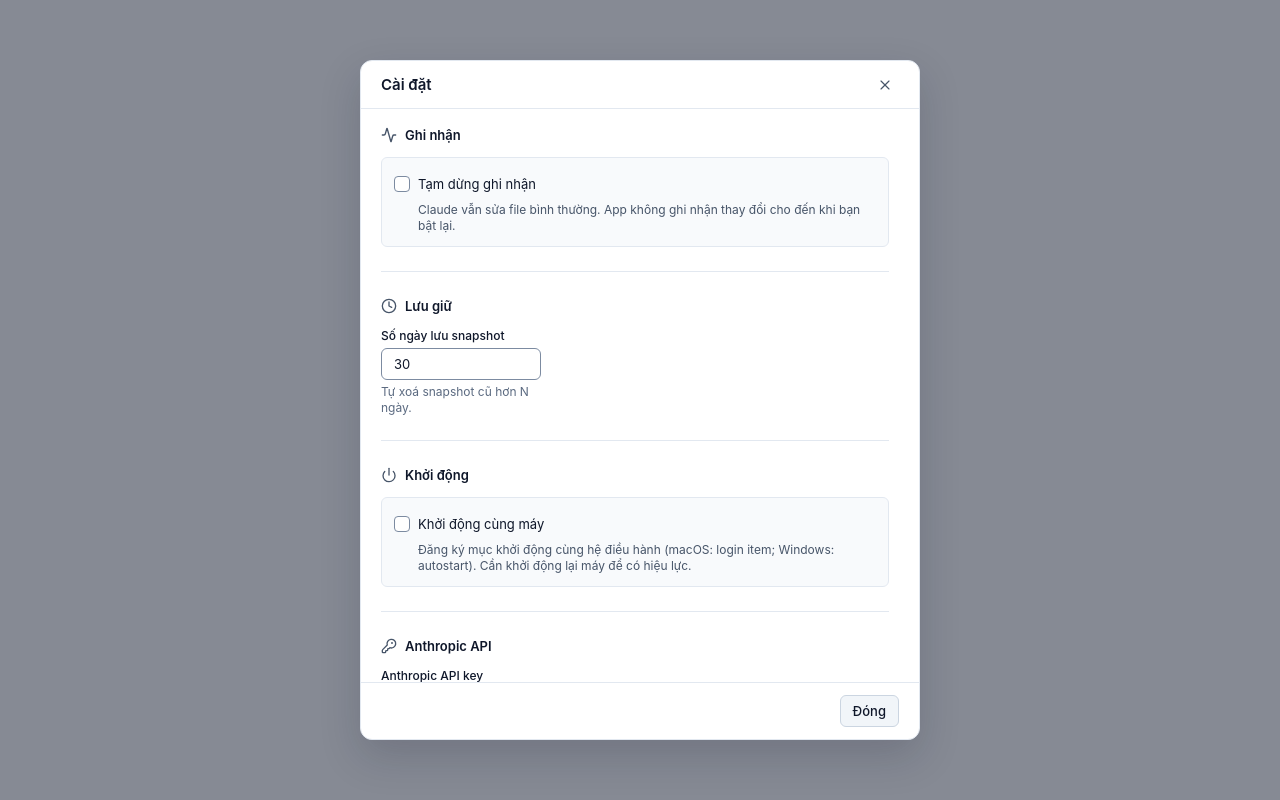
Scenario: <SettingsModal /> › saves the retention days on blur
Replace the text in the number field labelled "Số ngày lưu snapshot" with "45" at (461, 364), box [381, 348, 541, 380]
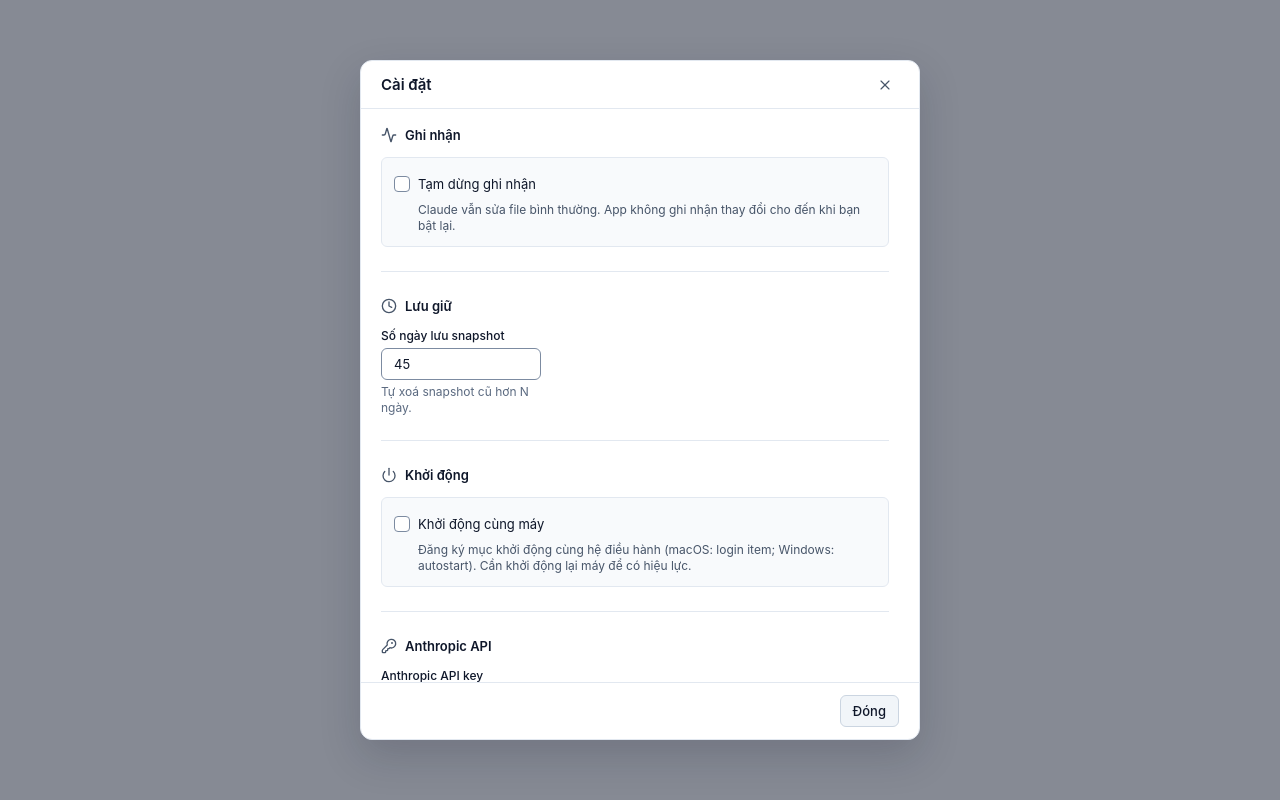
Leave the number field labelled "Số ngày lưu snapshot", box [381, 348, 541, 380]
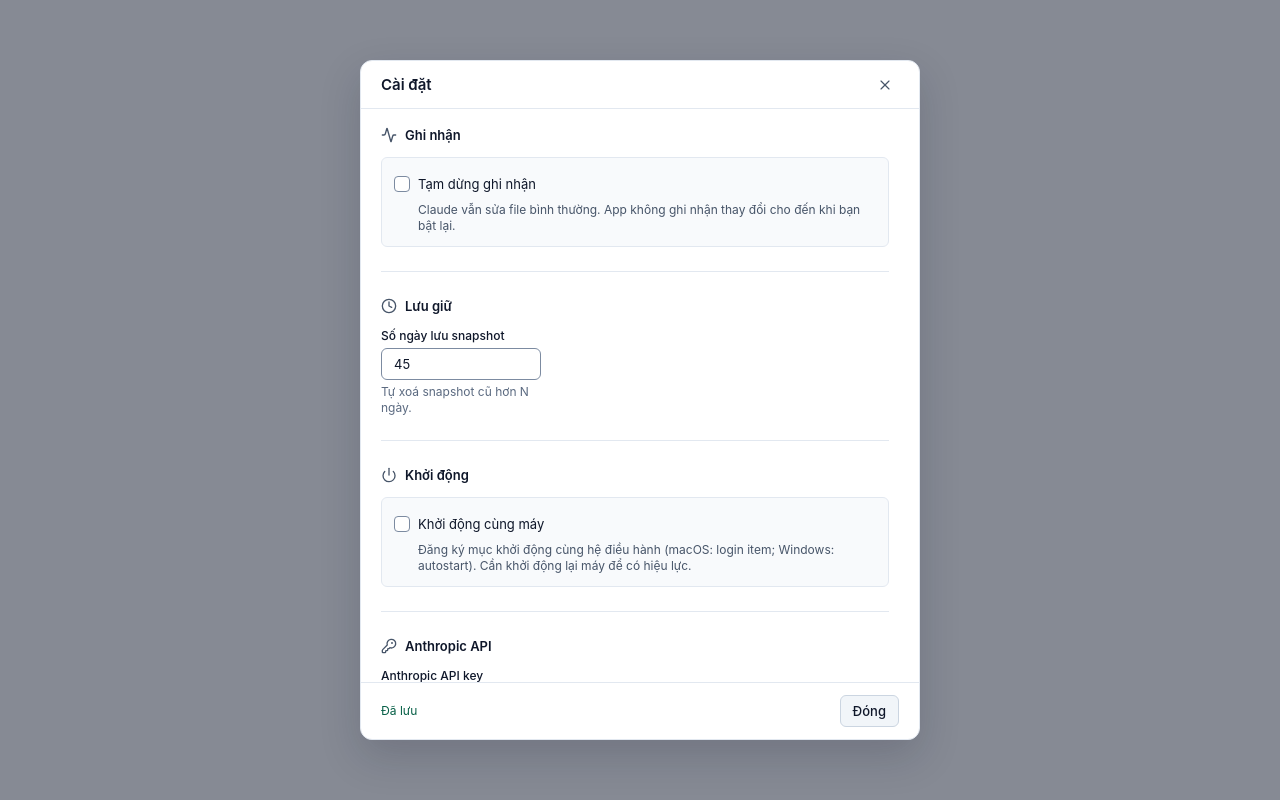
Result: the text "Đã lưu" is shown at [381, 703, 417, 718]
